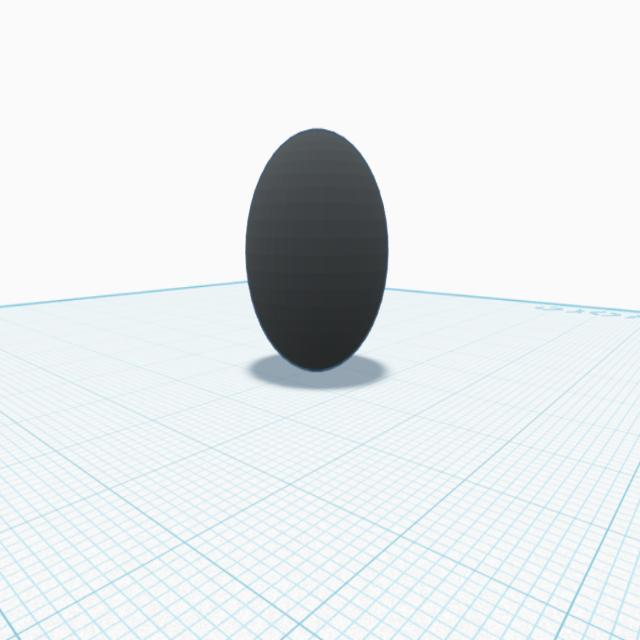sphere: (242, 120, 392, 379)
